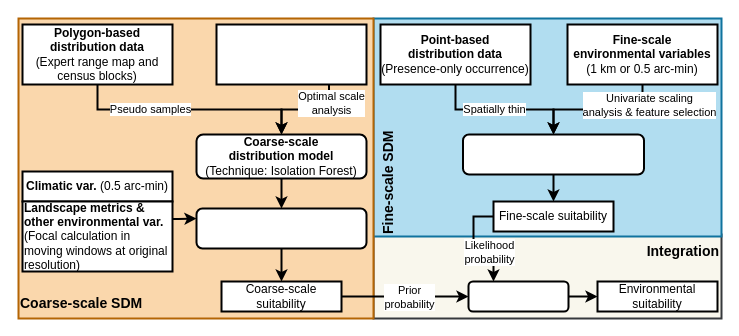
Image size: 739x336. Some labels were removed from this diagram. Here are the shapes that lost their labels. From the top down, the box of each, then its label:
(215, 23, 367, 85): Coarse-scale environmental variables (10, 5, 2.5 arc-min)
(462, 133, 644, 175): Fine-scale distribution model (Technique: Isolation Forest)
(195, 207, 367, 249): Projection at landscape scale
(467, 280, 569, 312): Bayes fusion
